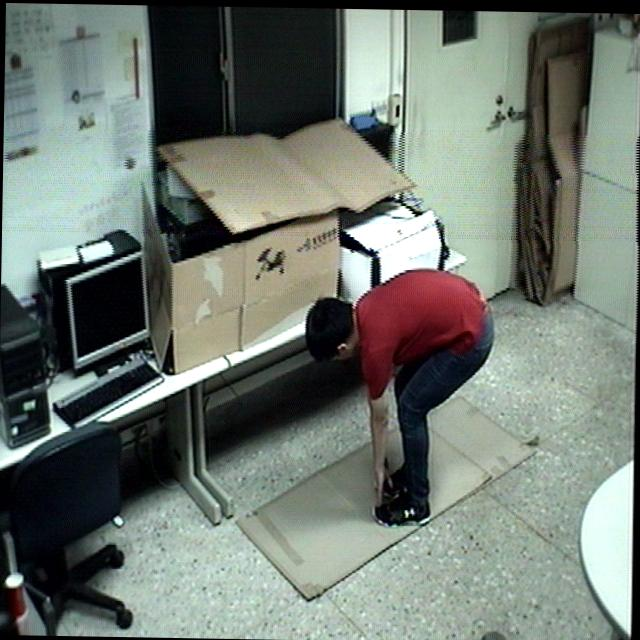bend: (294, 259, 497, 542)
